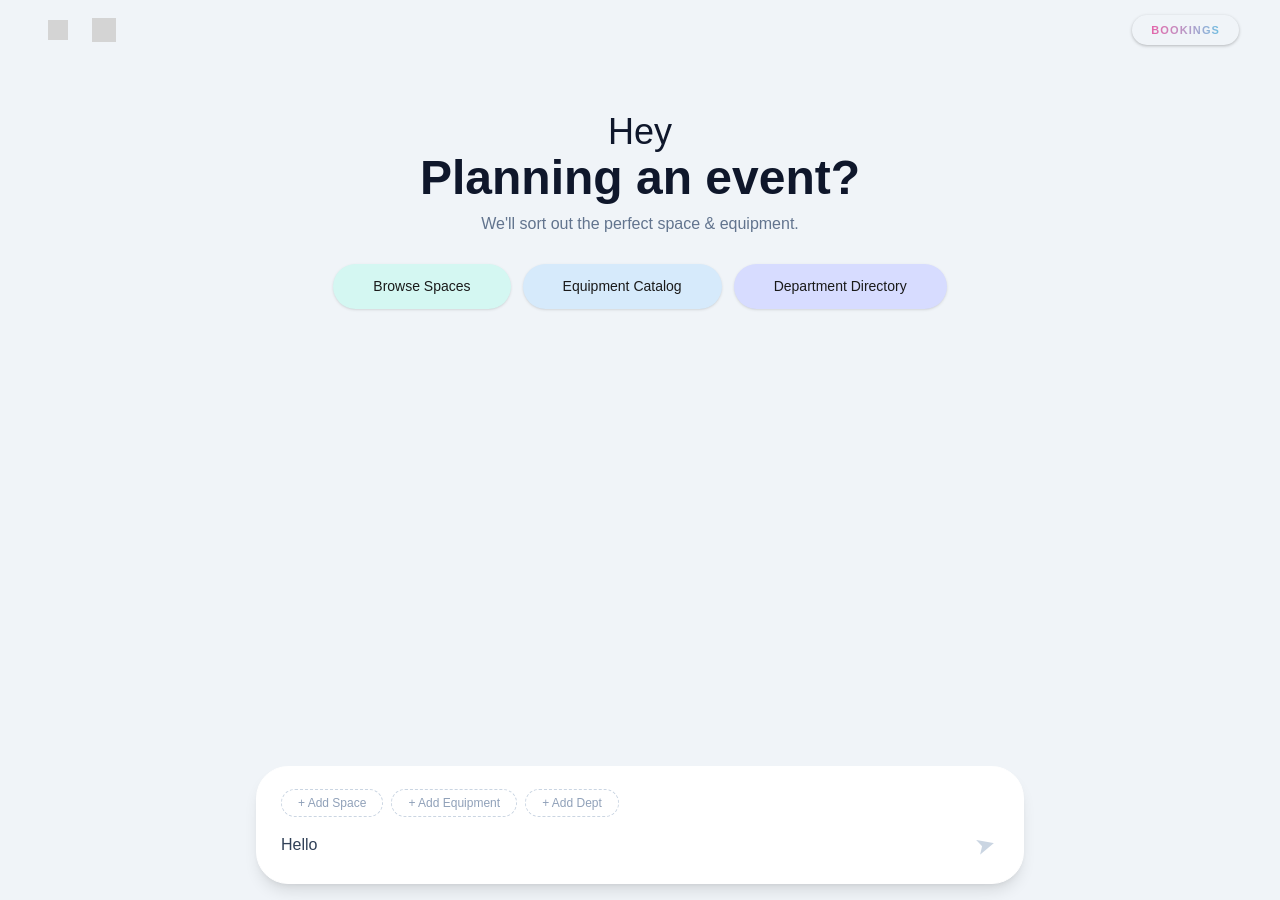
Test case: MainChat Component › handles server error response (non-ok status)
This screenshot has width=1280, height=900.
Click the button "➤" at (985, 845), box [971, 829, 999, 861]
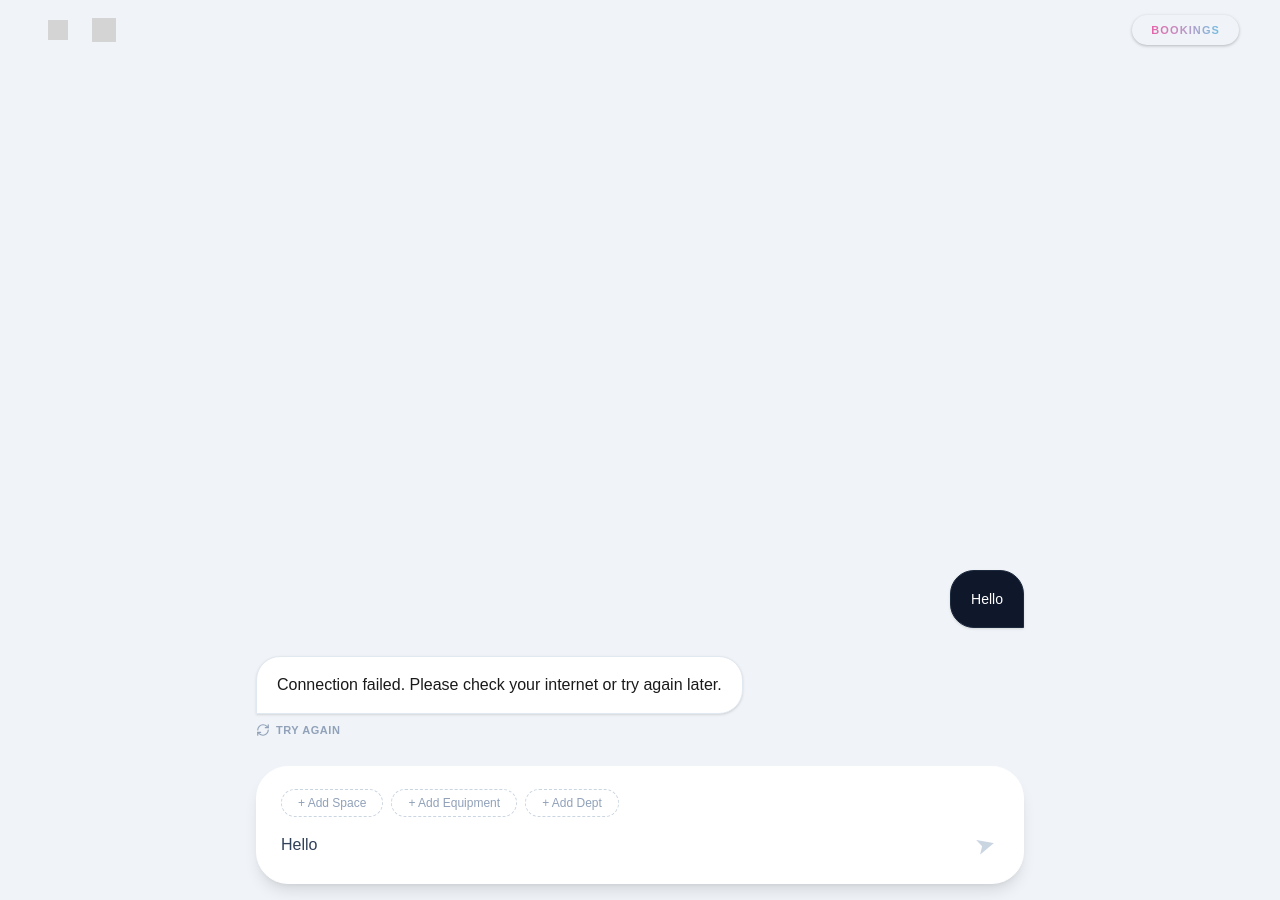
Result: the text "Connection failed. Please check your internet or try again later." is shown at [277, 672, 722, 696]
